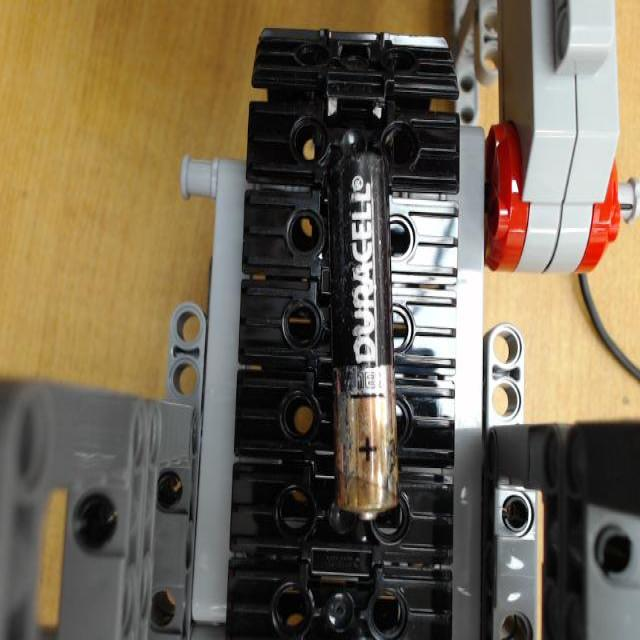AAA: (335, 151, 394, 518)
